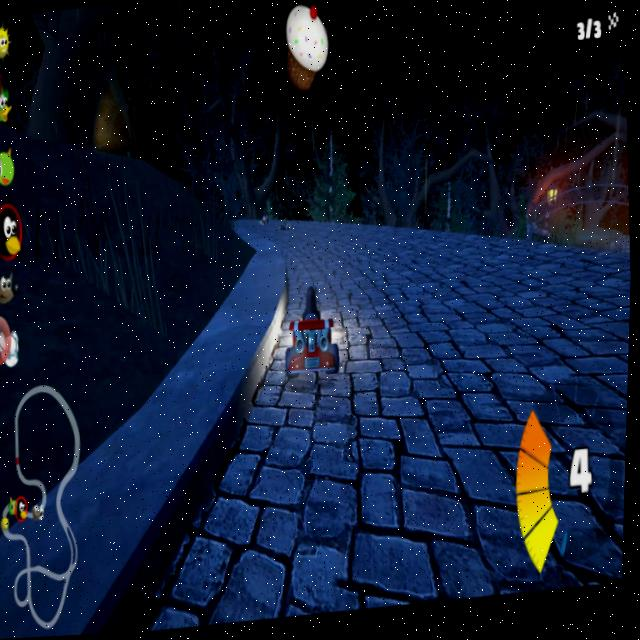enemy_kart: (277, 220, 298, 241), (258, 213, 270, 231)
player_kart: (287, 289, 345, 392)
track: (281, 226, 415, 307)
